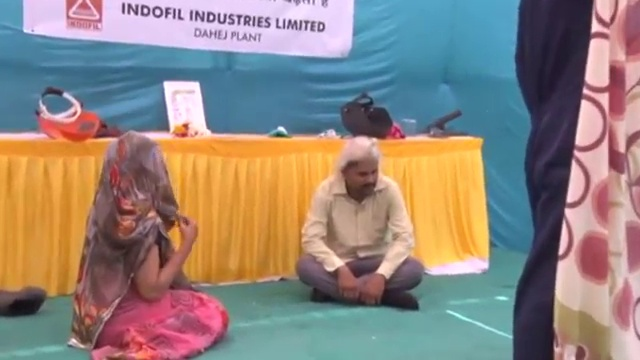helmet_off: (103, 132, 172, 205), (338, 139, 381, 203)
person: (69, 128, 228, 360), (513, 1, 594, 360), (292, 136, 425, 310)
